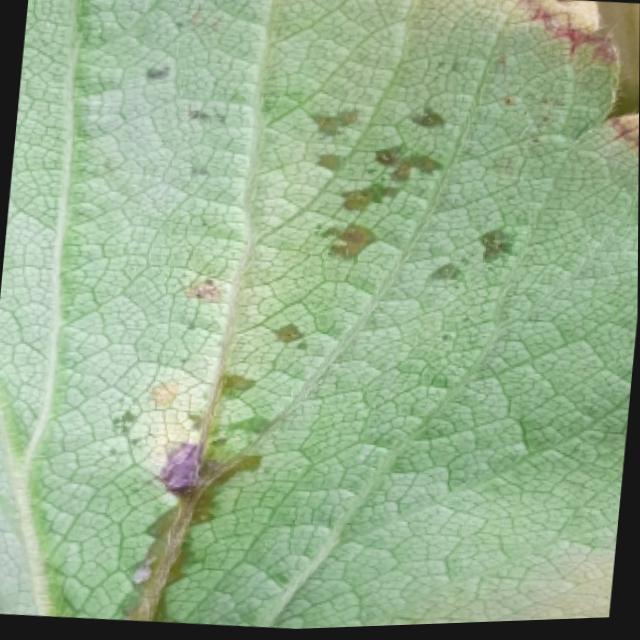Angular Leafspot: (89, 0, 639, 631)
